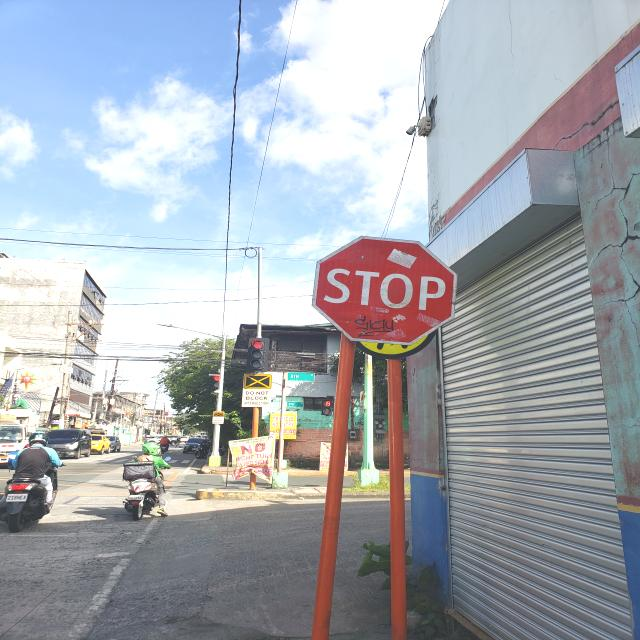stop-sign: (311, 235, 458, 346)
